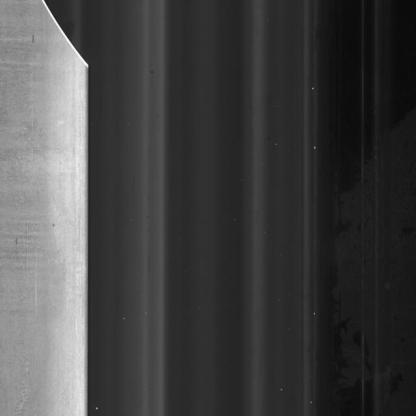crescent_gap: (36, 0, 102, 78)
